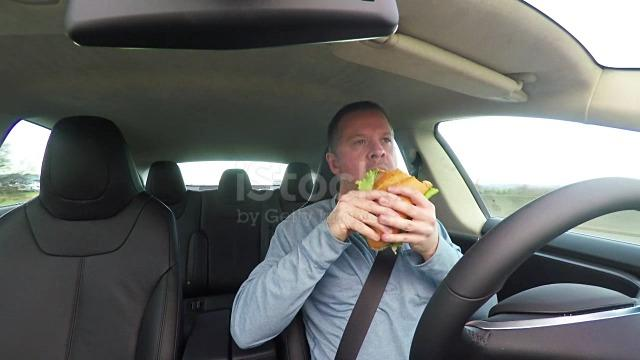Eating: (307, 94, 468, 271)
